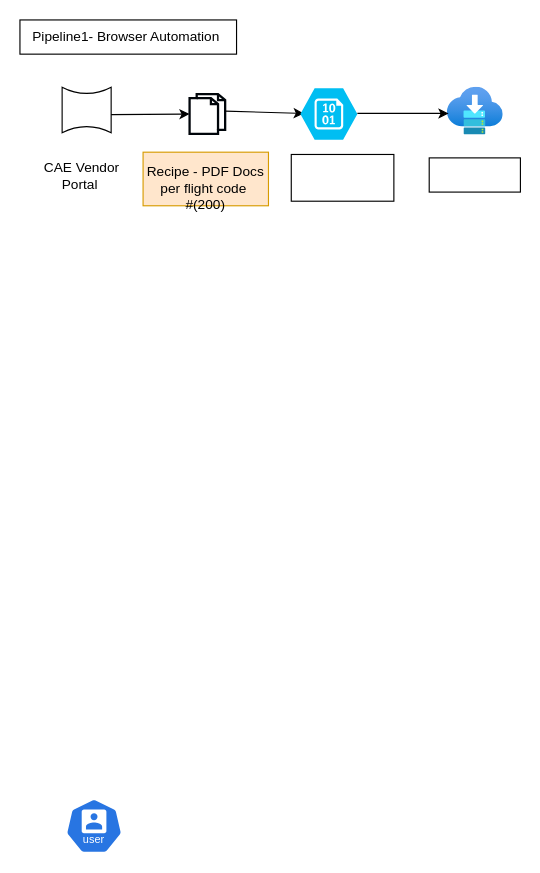
This 540x873 diagram has some shape labels left out. The shapes that lost their labels are listed below. From the top down, each one's centre as x and y in pixels, then its label:
At [342,177]: "Blob Storage airline/code".
At [474,174]: "Service Bus".
